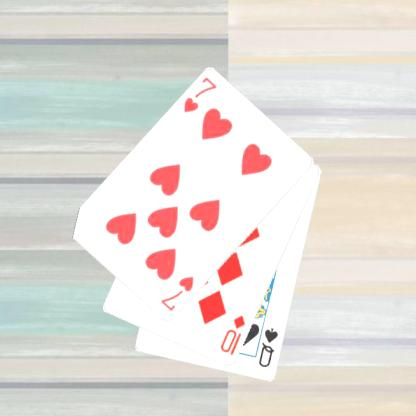10D: (217, 312, 247, 357)
7H: (158, 273, 195, 313), (181, 74, 218, 114)
QS: (256, 325, 280, 370)
